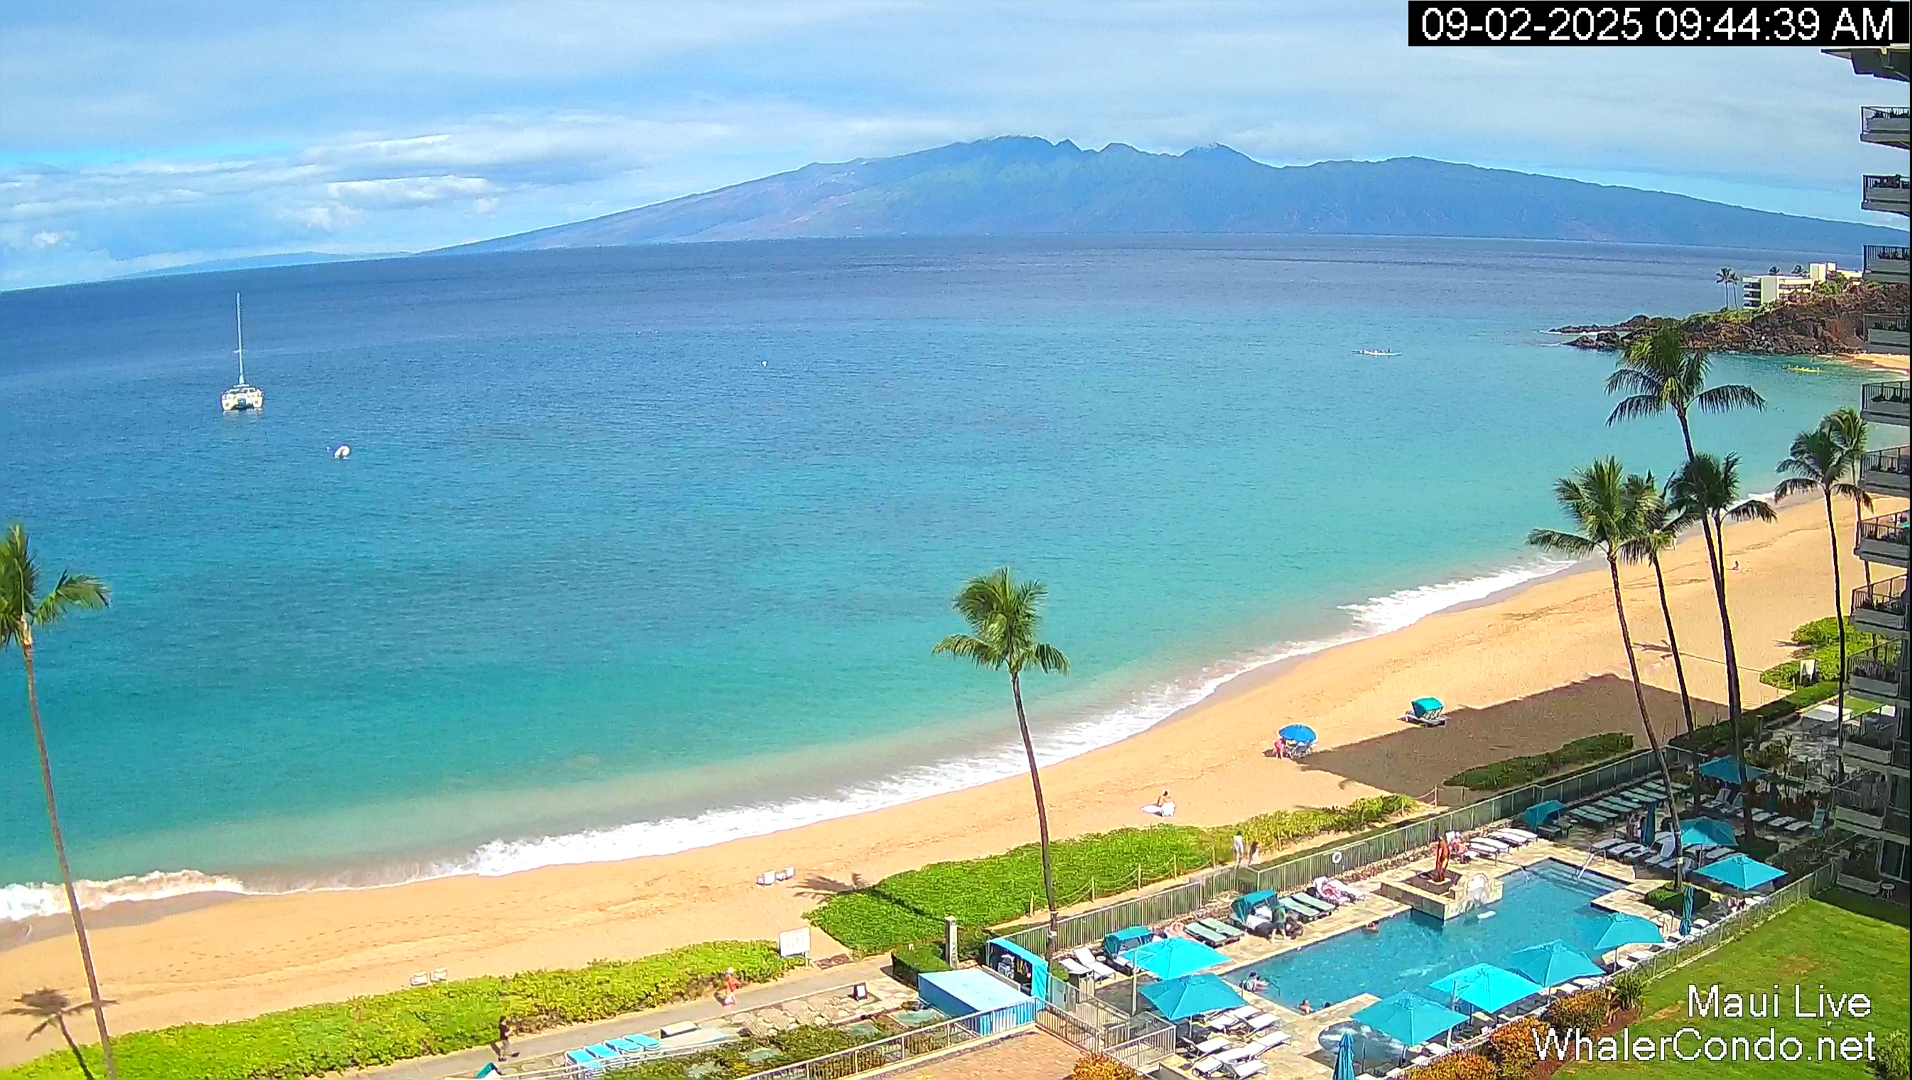boat: (220, 292, 265, 412), (604, 1035, 640, 1056)
person: (723, 968, 740, 1006), (498, 1016, 512, 1060), (1156, 789, 1175, 817), (1233, 830, 1245, 864), (1248, 841, 1260, 866), (1274, 737, 1285, 760)
